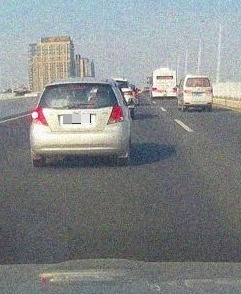L_light: (31, 106, 49, 127), (184, 90, 191, 93), (152, 88, 157, 91)
R_light: (106, 104, 124, 125), (206, 89, 212, 93), (172, 88, 177, 91)
T_light: (70, 84, 86, 88), (163, 70, 167, 72), (196, 78, 200, 80)
day-left: (30, 78, 129, 167)
day-no: (183, 75, 213, 112), (152, 68, 177, 100)
plate_1: (63, 114, 91, 124)
